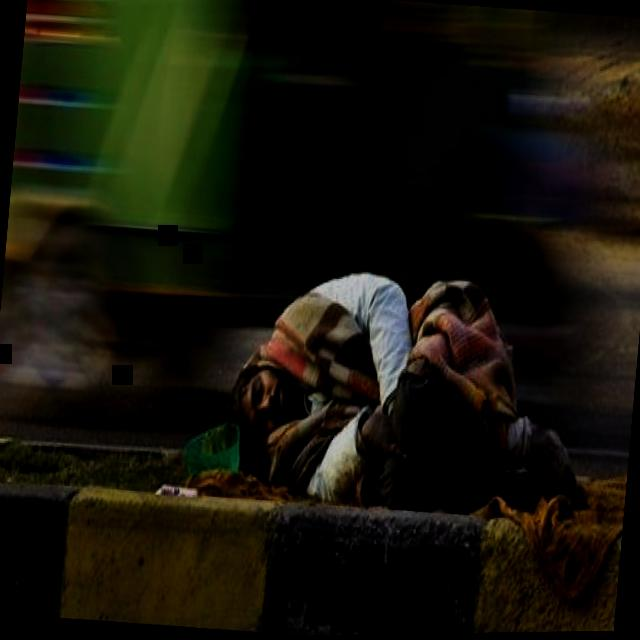Fall-Detected: (203, 235, 618, 540)
